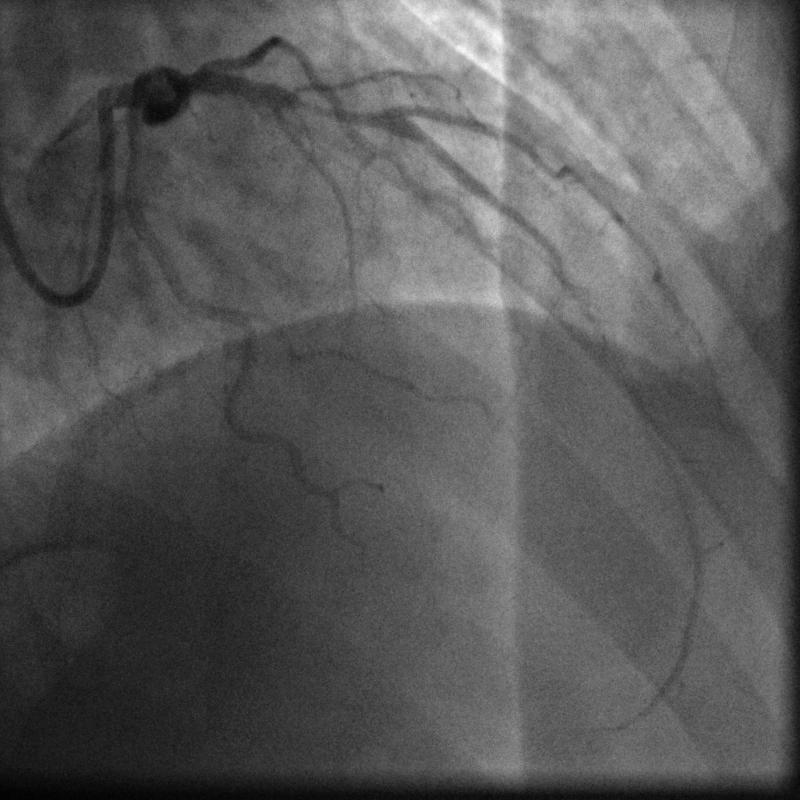Stenosis: (289, 94, 374, 128)
